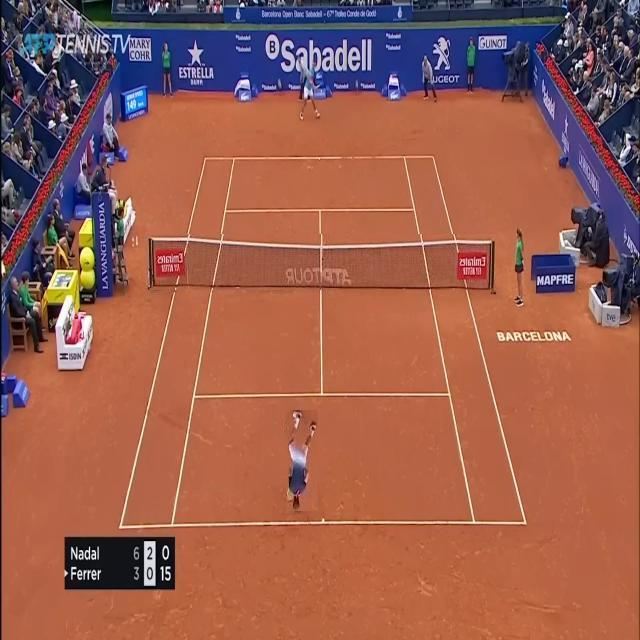court: (118, 155, 528, 530)
net: (146, 234, 496, 290)
player: (286, 410, 318, 511)
